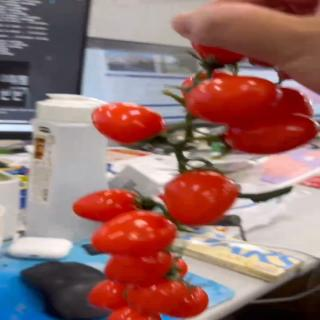tomato: (181, 71, 280, 126), (165, 171, 241, 228), (92, 211, 178, 257), (224, 116, 320, 156), (92, 104, 168, 149), (70, 189, 146, 226), (122, 275, 187, 317), (104, 247, 173, 286), (87, 276, 143, 313), (103, 305, 162, 320)
